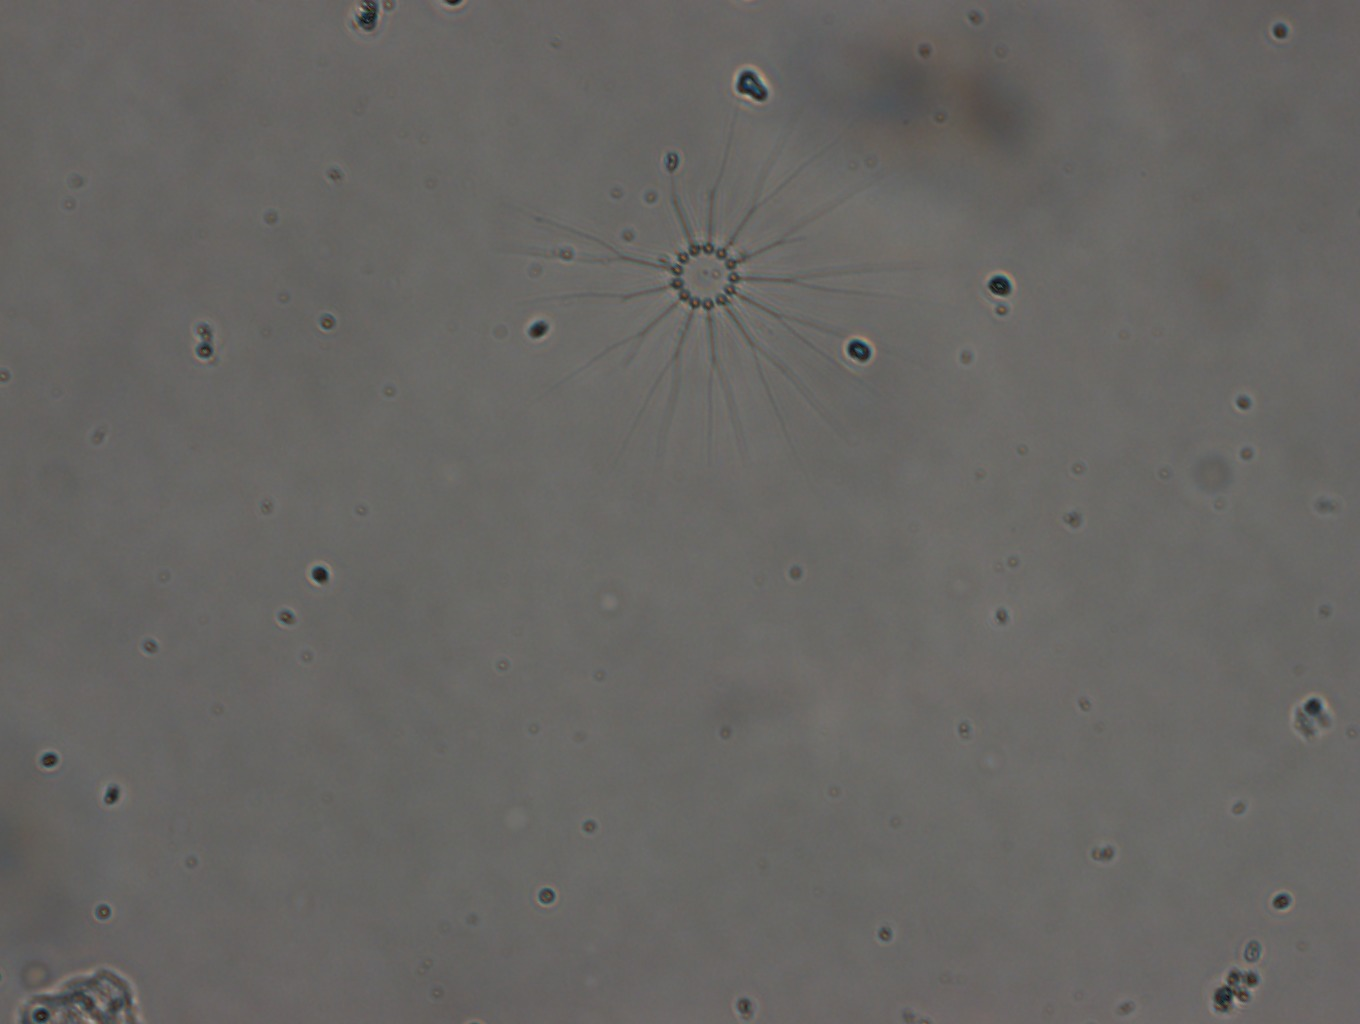bacteriastrum: (492, 90, 932, 501)
